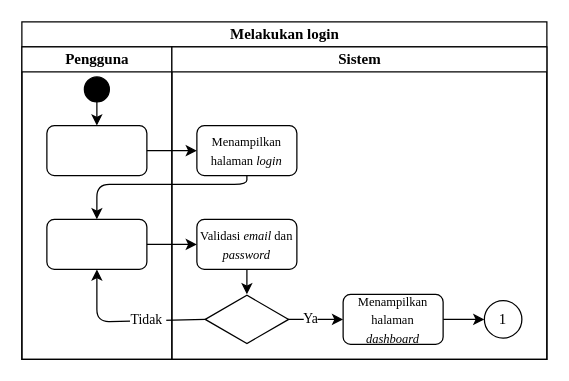
Some shapes in this 569 by 381 pixel diagram are drawn without their labels. Each missing label, with the centre of its shape:
"Apakah valid?" goes at point (246, 318).
"Masukkan email dan password" goes at point (96, 243).
"Pengguna membuka aplikasi" goes at point (96, 150).
